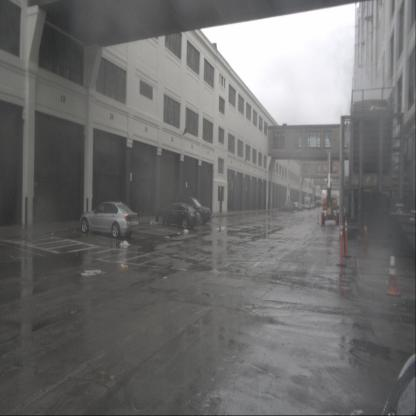movable_object-trafficcone: (386, 249, 400, 297), (336, 218, 346, 267), (342, 216, 351, 258), (316, 209, 320, 225), (319, 210, 323, 226), (335, 209, 338, 227)
vehicle-bus-rigid: (304, 196, 311, 209)
vehicle-car: (80, 201, 139, 239), (171, 196, 212, 225), (156, 203, 200, 229), (278, 203, 295, 213), (289, 203, 301, 212), (310, 202, 316, 209)
